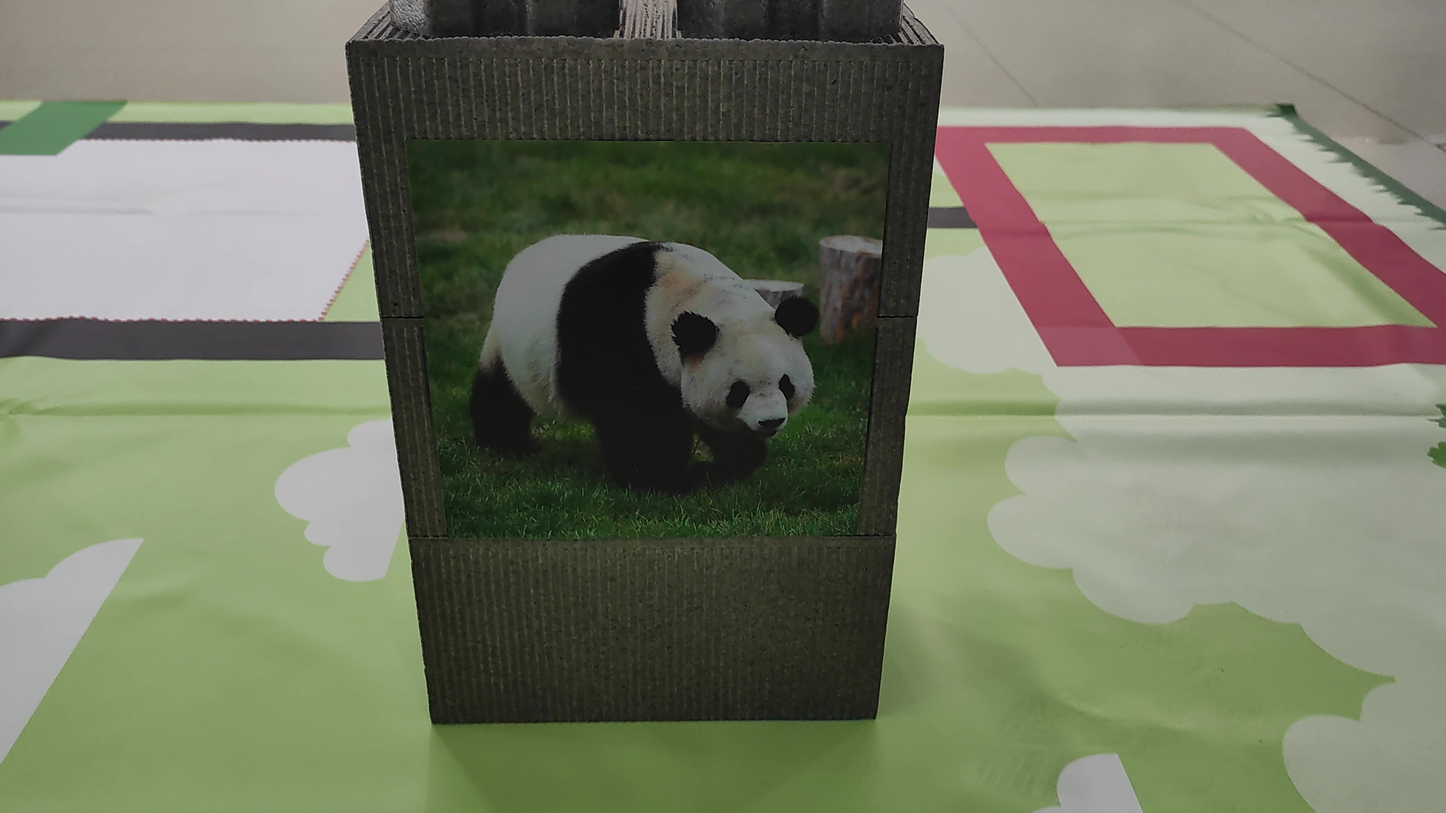panda: (398, 183, 844, 548)
